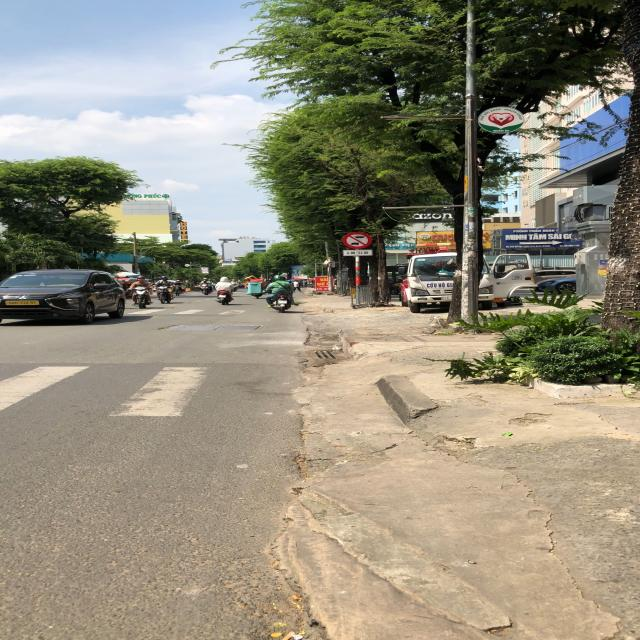Bien bao cam xe oto khach va xe oto tai: (339, 229, 374, 249)
